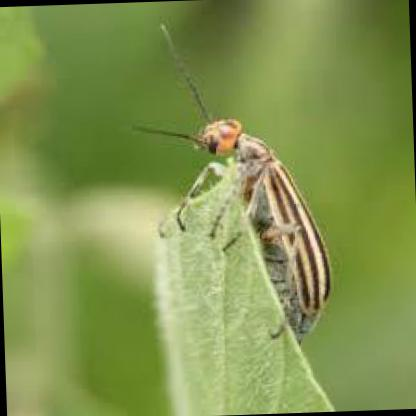blister beetle: (194, 121, 335, 345)
